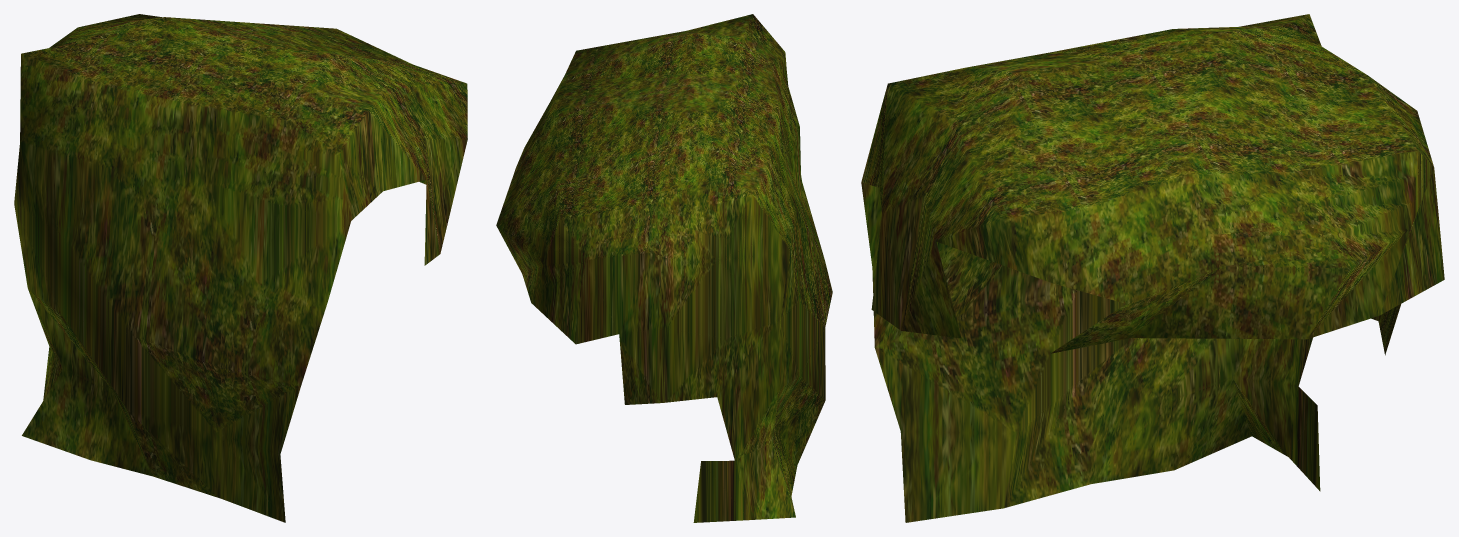
Rendered from TROLLHOLE02_RM_PSURF187.fbx.
The picture shows the model from 3 angles, left to right: view 1: azimuth 30°, elevation 25°; view 2: azimuth 150°, elevation 25°; view 3: azimuth 270°, elevation 25°; orthographic projection. The views are drawn at different scales.
Visible parts, largest first — view 1: TROLLHOLE02_RM_PSURF187; view 2: TROLLHOLE02_RM_PSURF187; view 3: TROLLHOLE02_RM_PSURF187.
Boxes of the visible parts, box(x1,y1,x2,y2) form: TROLLHOLE02_RM_PSURF187: box(14, 14, 467, 522); TROLLHOLE02_RM_PSURF187: box(496, 14, 832, 522); TROLLHOLE02_RM_PSURF187: box(861, 14, 1444, 522).
Bounding box in the file's own units: 86830 × 98641 × 103839.
Materials: 1 (1 with a texture image).
